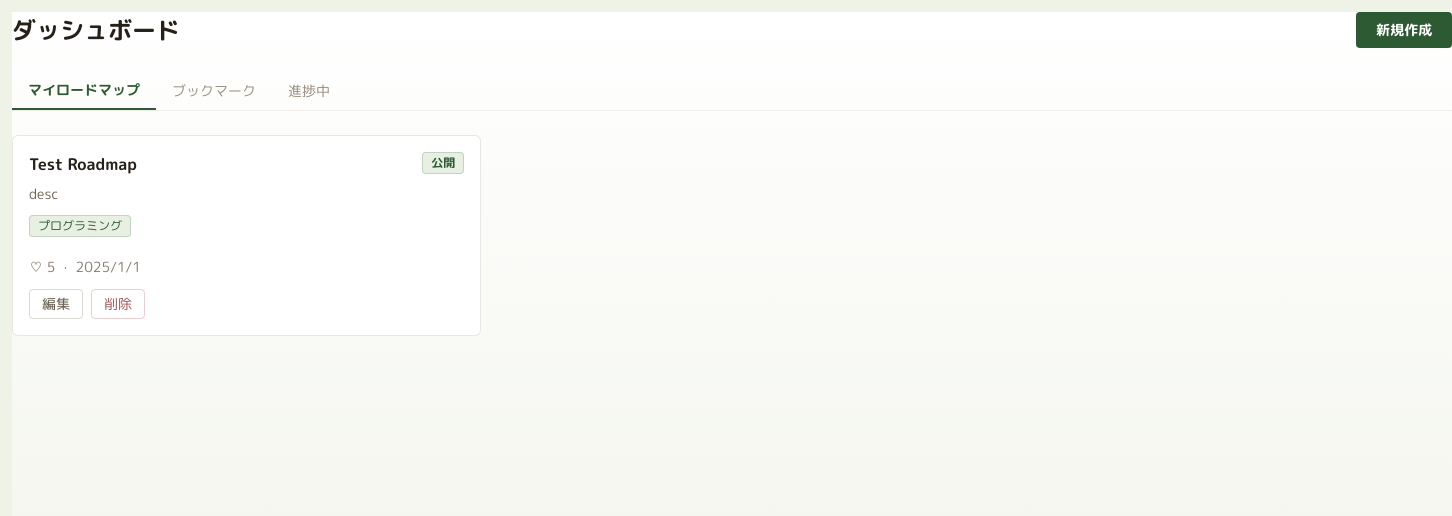
Test case: DashboardPage › deletes a roadmap with undo toast
Expected: the link "Test Roadmap" is shown, left=29, top=152, right=137, bottom=176
Click "削除" to show confirmation
Click the button "削除". click: (118, 304)
box: left=91, top=289, right=145, bottom=319
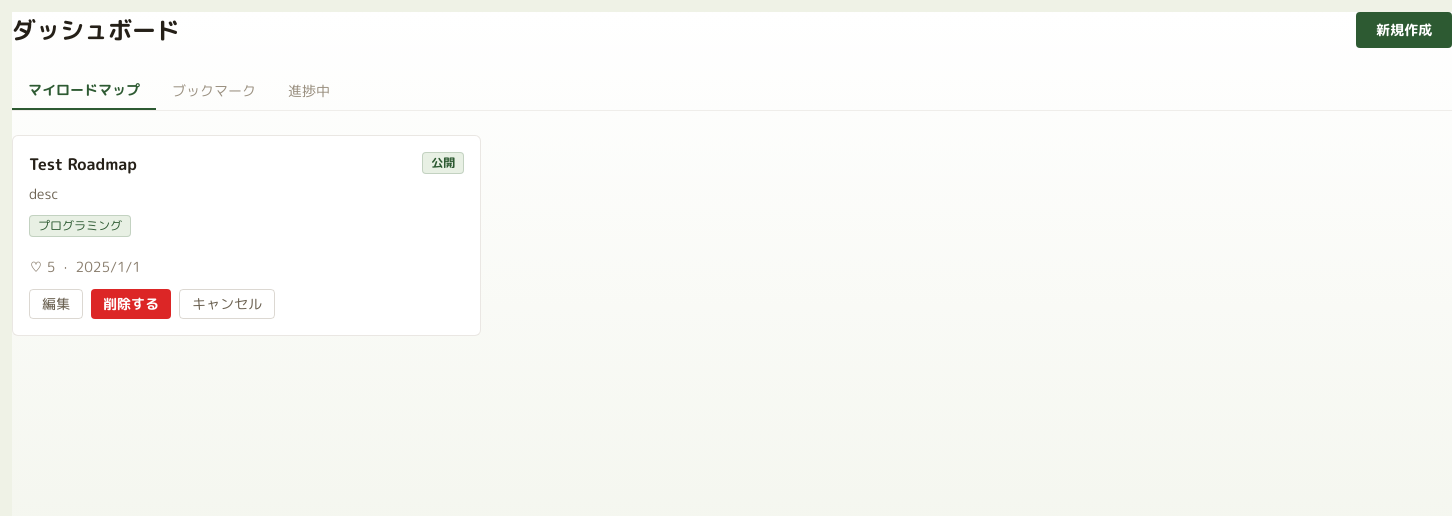
Click "削除する" to confirm deletion
Click the button "削除する". click: (131, 304)
box: left=91, top=289, right=171, bottom=319
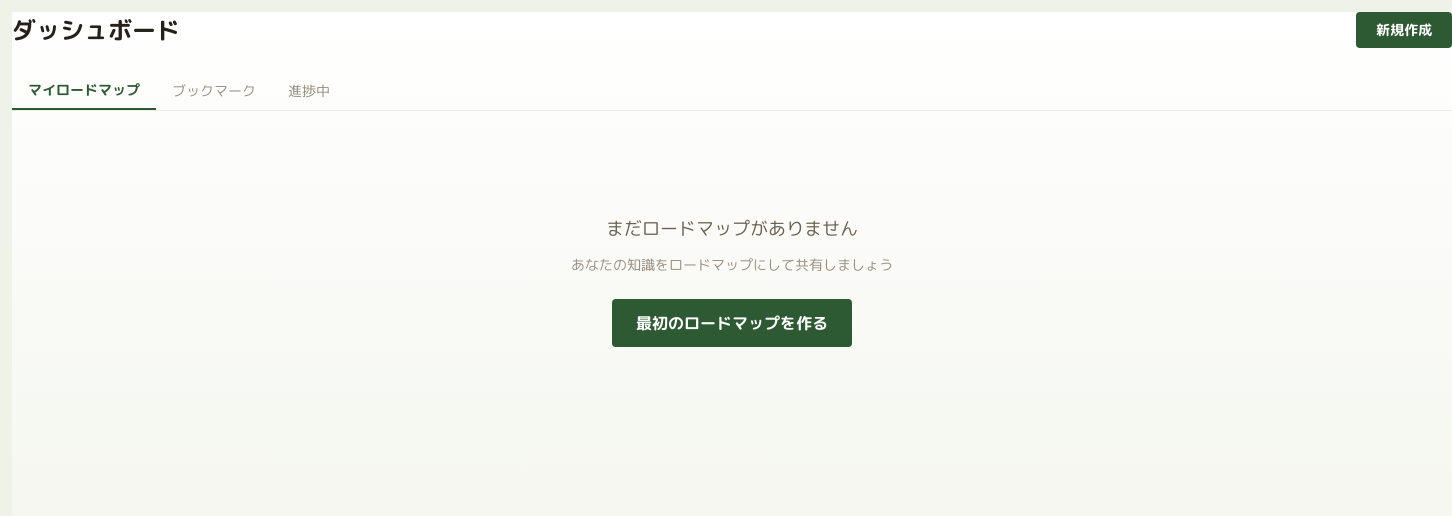
Now the link "Test Roadmap" is gone
